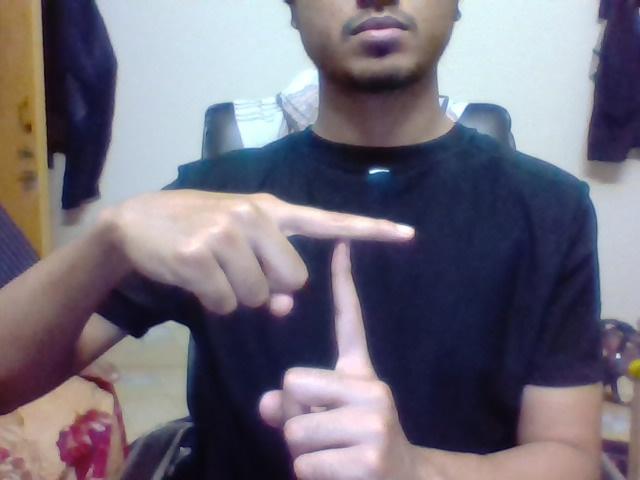T: (312, 196, 421, 364)
